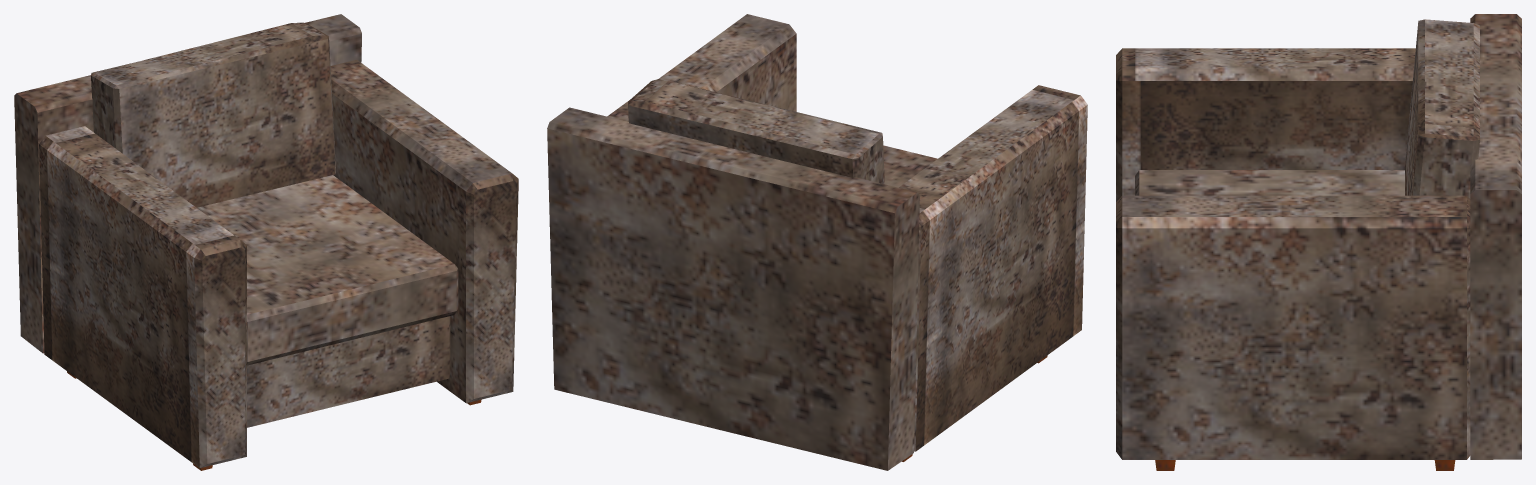
File: armchair_pattern.obj
3 views of the same model, side by side, from view 1: azimuth 30°, elevation 25°; view 2: azimuth 150°, elevation 25°; view 3: azimuth 270°, elevation 25° (orthographic). The views are drawn at different scales.
Visible parts, largest first — view 1: armchair_pattern; view 2: armchair_pattern; view 3: armchair_pattern.
Part boxes in pixels (bbox=[...]): armchair_pattern: bbox=[14, 14, 518, 470]; armchair_pattern: bbox=[547, 14, 1087, 470]; armchair_pattern: bbox=[1116, 14, 1521, 470].
Size of the model in its own units: 1.4 by 1.19 by 1.36.
